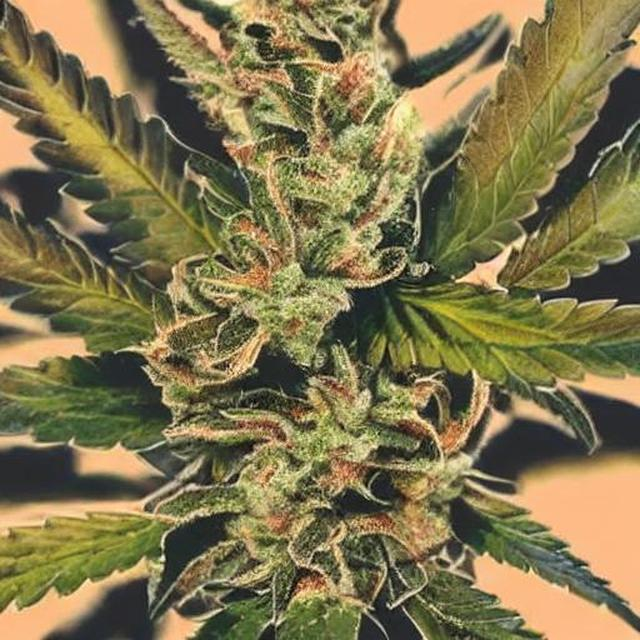Marijuana Plant: (0, 18, 607, 605)
